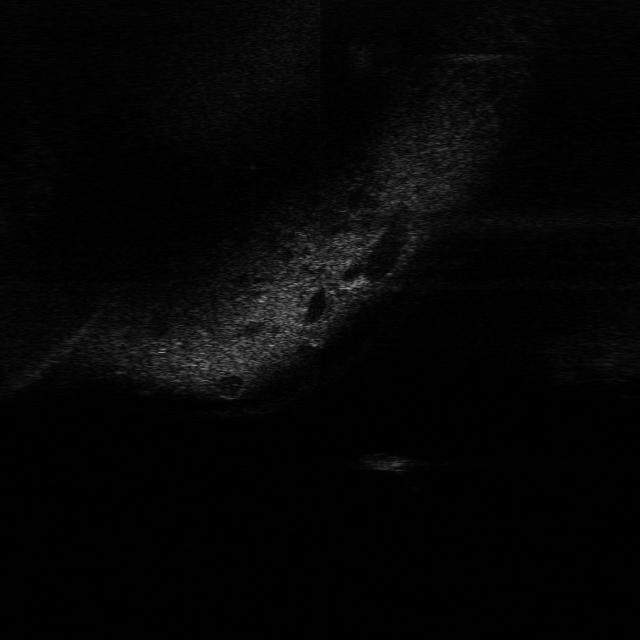cube: (354, 449, 424, 474)
